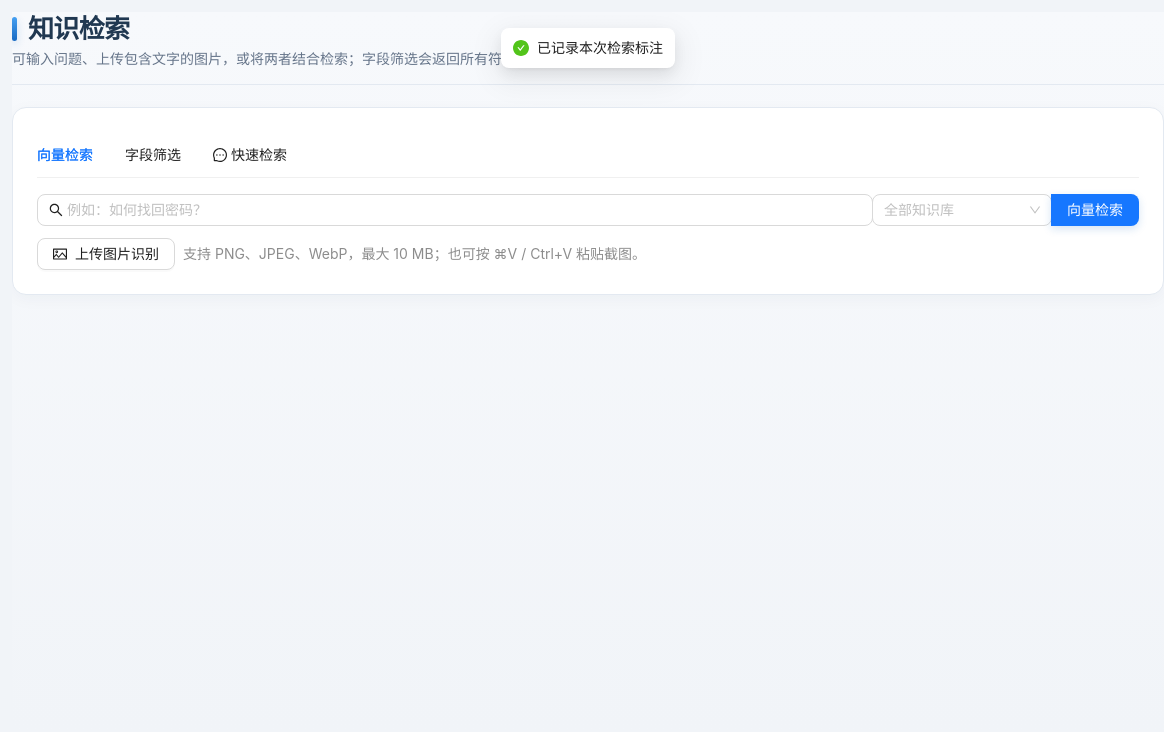
Test: SearchPage OCR › does not show an annotation panel for field filtering
What coordinates should you click on to do the following:
click the tab "字段筛选"
I would click on:
 (153, 155)
Its box is top-left (125, 144), bottom-right (181, 166).
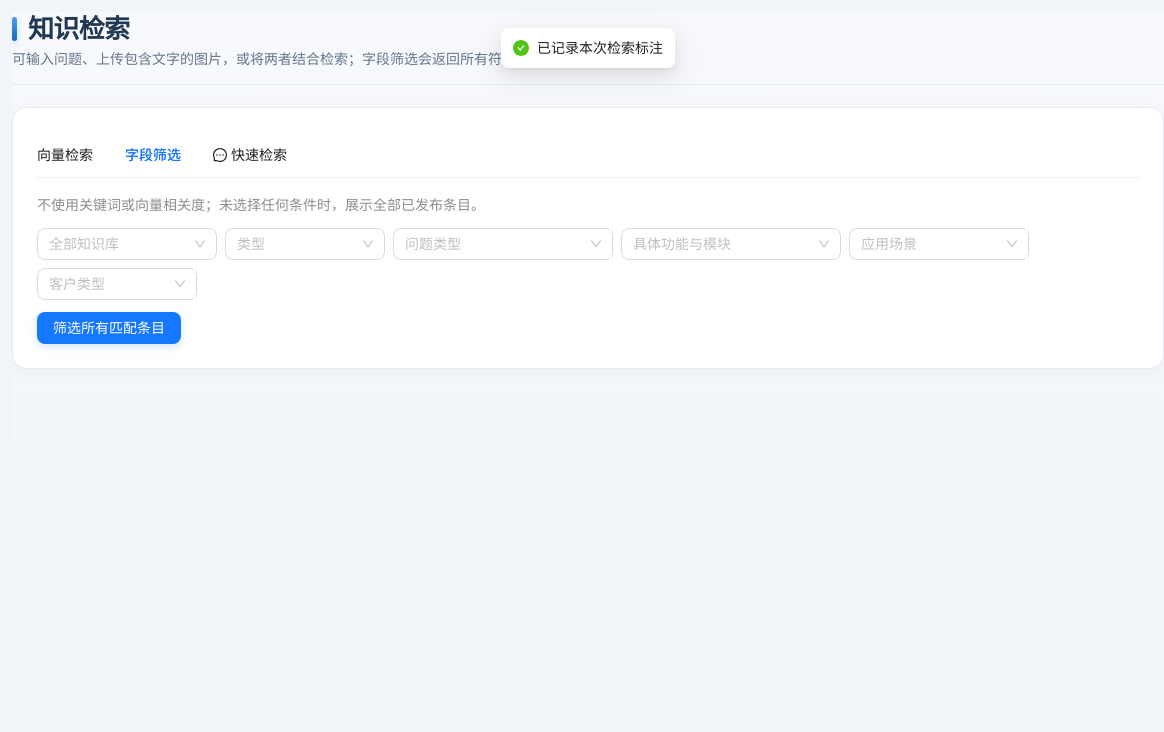
What coordinates should you click on to do the following:
click the button "筛选所有匹配条目"
I would click on:
 (109, 328)
Its box is top-left (37, 312), bottom-right (181, 344).
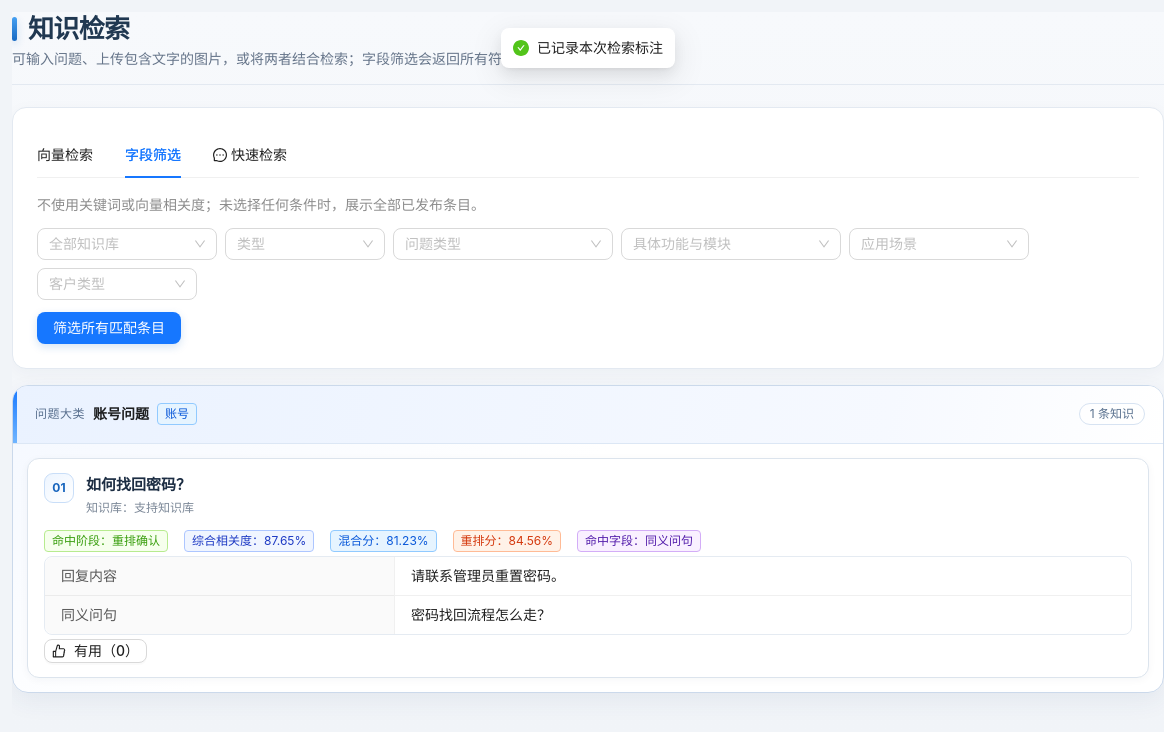
Expected: the text "如何找回密码？" is shown, top-left (86, 473), bottom-right (194, 496)
